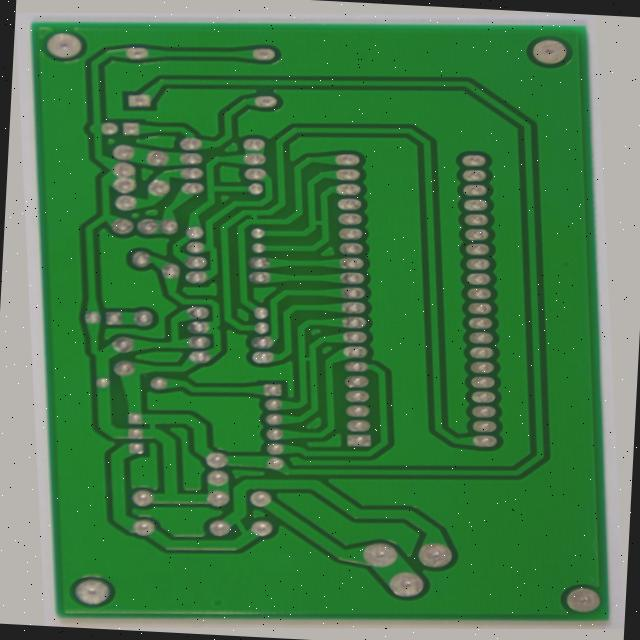short: (195, 515, 233, 548), (312, 207, 343, 231), (111, 408, 137, 433), (286, 350, 317, 370), (245, 198, 272, 220)
